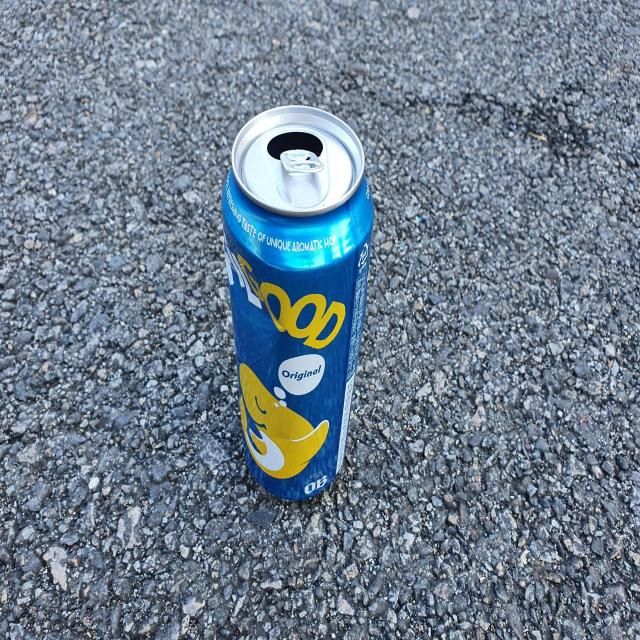can: (222, 104, 374, 501)
